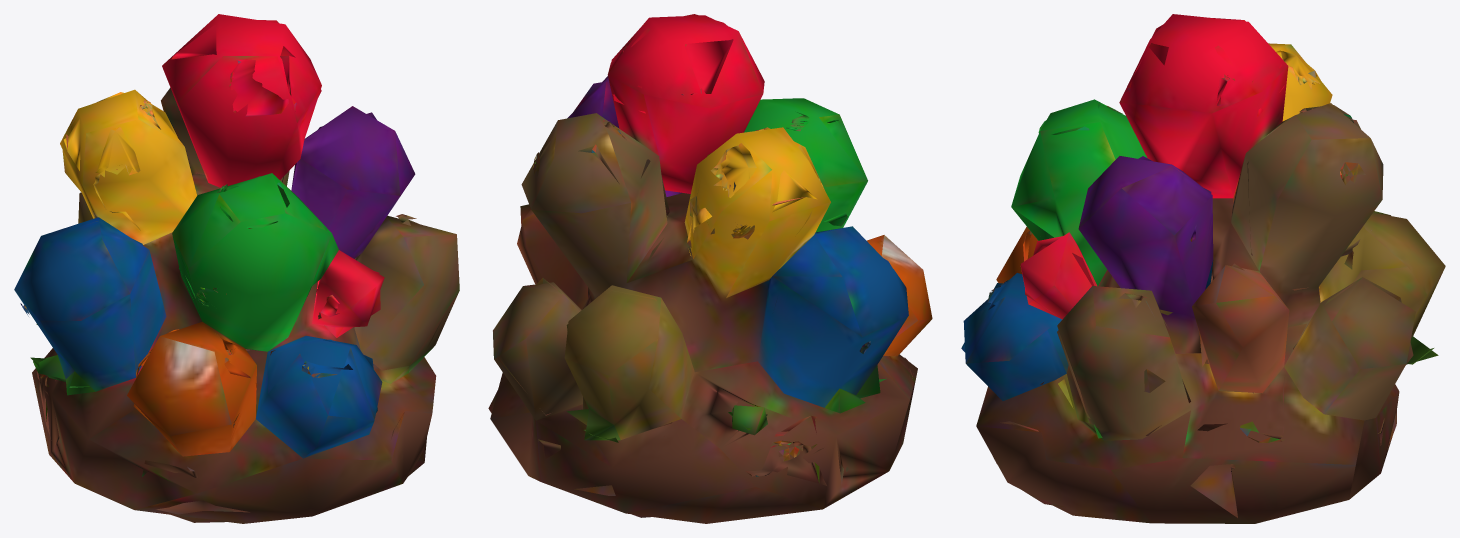
The model's file is lg-gem-cluster.glb.
The picture shows the model from 3 angles, left to right: view 1: azimuth 30°, elevation 25°; view 2: azimuth 150°, elevation 25°; view 3: azimuth 270°, elevation 25°; orthographic projection. The views are drawn at different scales.
Visible parts, largest first — view 1: geometry_0; view 2: geometry_0; view 3: geometry_0.
Boxes of the visible parts, x1,y1,x2,y2 form: geometry_0: (14,14,459,523); geometry_0: (488,14,932,523); geometry_0: (961,14,1445,523).
Size of the model in its own units: 0.9593 by 0.9838 by 1.
1 material, 1 textured.
